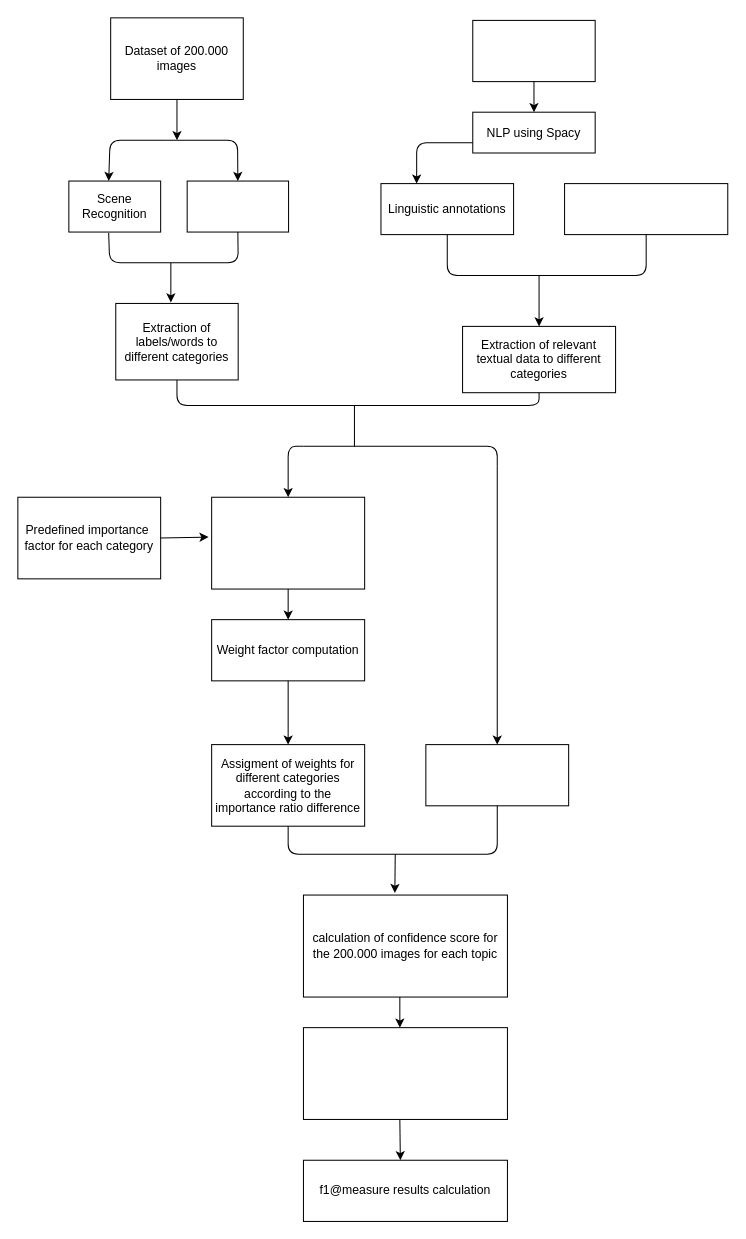
Image size: 746x1239. Some labels were removed from this diagram. Each missing label, with the box of its shape:
50 highest scores for each topic stored on an .csv file: (302, 1027, 507, 1119)
Distribution importance factor of of empty categories to different categories: (211, 496, 365, 589)
Imageclef 10 test topics: (472, 19, 595, 82)
Implementation of semantic rules and syntax Rules: (564, 183, 728, 235)
Object Detection: (186, 180, 289, 232)
Similarity between words using SpaCy NLP model: (425, 744, 569, 806)
